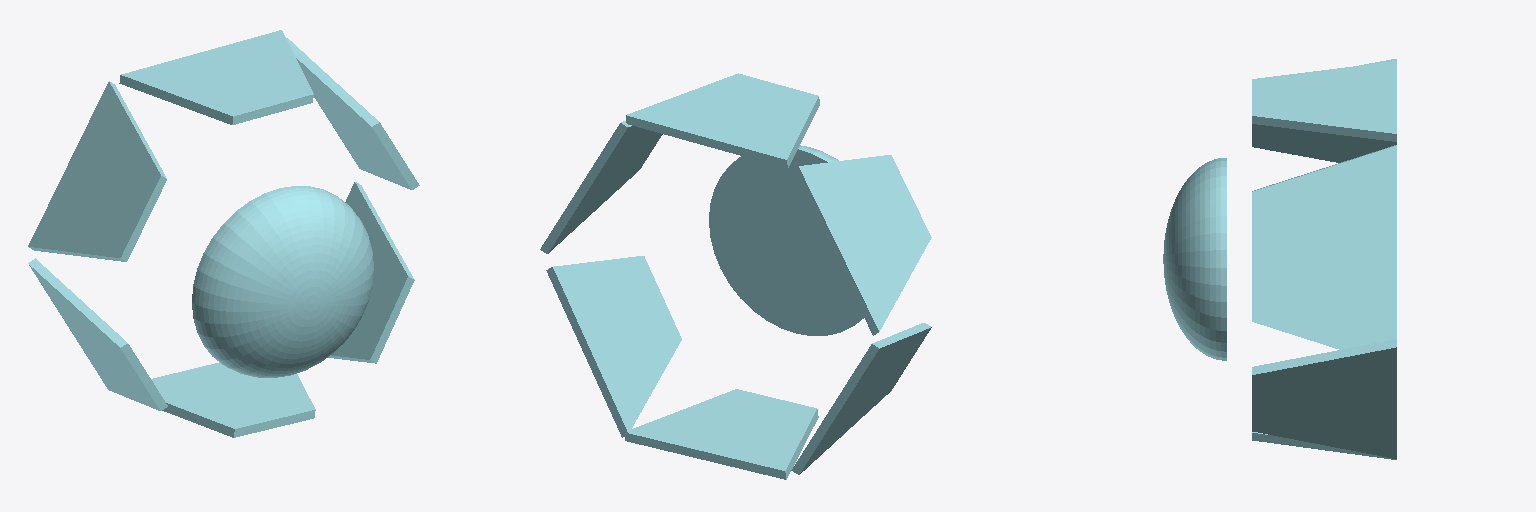
File: ventanas.obj
3 views of the same model, side by side, from view 1: azimuth 30°, elevation 25°; view 2: azimuth 150°, elevation 25°; view 3: azimuth 270°, elevation 25° (orthographic).
Visible parts, largest first — view 1: obj_6, obj_5, obj_4, obj_2, obj_1, obj_3, obj_0; view 2: obj_6, obj_5, obj_1, obj_4, obj_2, obj_3, obj_0; view 3: obj_0, obj_1, obj_6, obj_4, obj_3, obj_5, obj_2.
Boxes of the visible parts, x1,y1,x2,y2 form: obj_6: [192, 186, 373, 377]; obj_5: [28, 81, 166, 261]; obj_4: [119, 30, 313, 124]; obj_2: [151, 362, 315, 437]; obj_1: [328, 182, 414, 363]; obj_3: [28, 258, 167, 410]; obj_0: [286, 38, 419, 189]; obj_6: [709, 145, 863, 335]; obj_5: [792, 155, 931, 335]; obj_1: [546, 256, 681, 437]; obj_4: [626, 73, 819, 168]; obj_2: [625, 389, 818, 479]; obj_3: [791, 323, 931, 474]; obj_0: [540, 121, 662, 253]; obj_0: [1252, 145, 1396, 330]; obj_1: [1252, 339, 1396, 458]; obj_6: [1163, 158, 1226, 360]; obj_4: [1252, 61, 1396, 141]; obj_3: [1252, 285, 1396, 349]; obj_5: [1252, 59, 1396, 162]; obj_2: [1252, 432, 1396, 459].
Bounding box in the file's own units: 80.71 × 74 × 48.